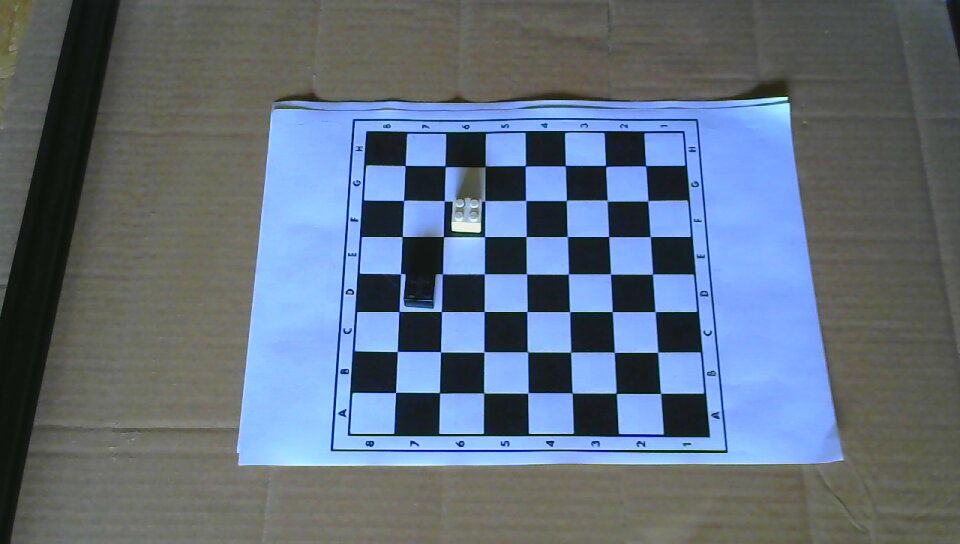bp: (402, 268, 438, 308)
wp: (450, 195, 484, 234)
